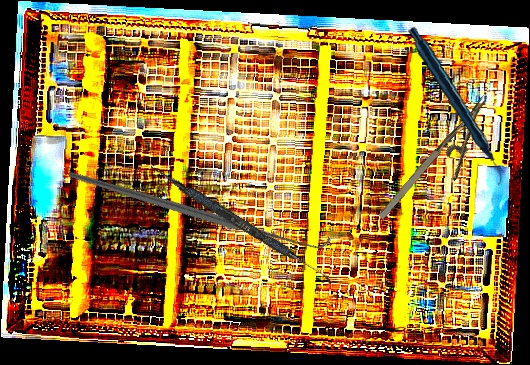Handpiece: (395, 26, 515, 187)
Hook Surgical: (66, 72, 333, 343)
Needle Holder: (374, 94, 512, 238)
Spatula Surgical: (146, 163, 337, 285)
